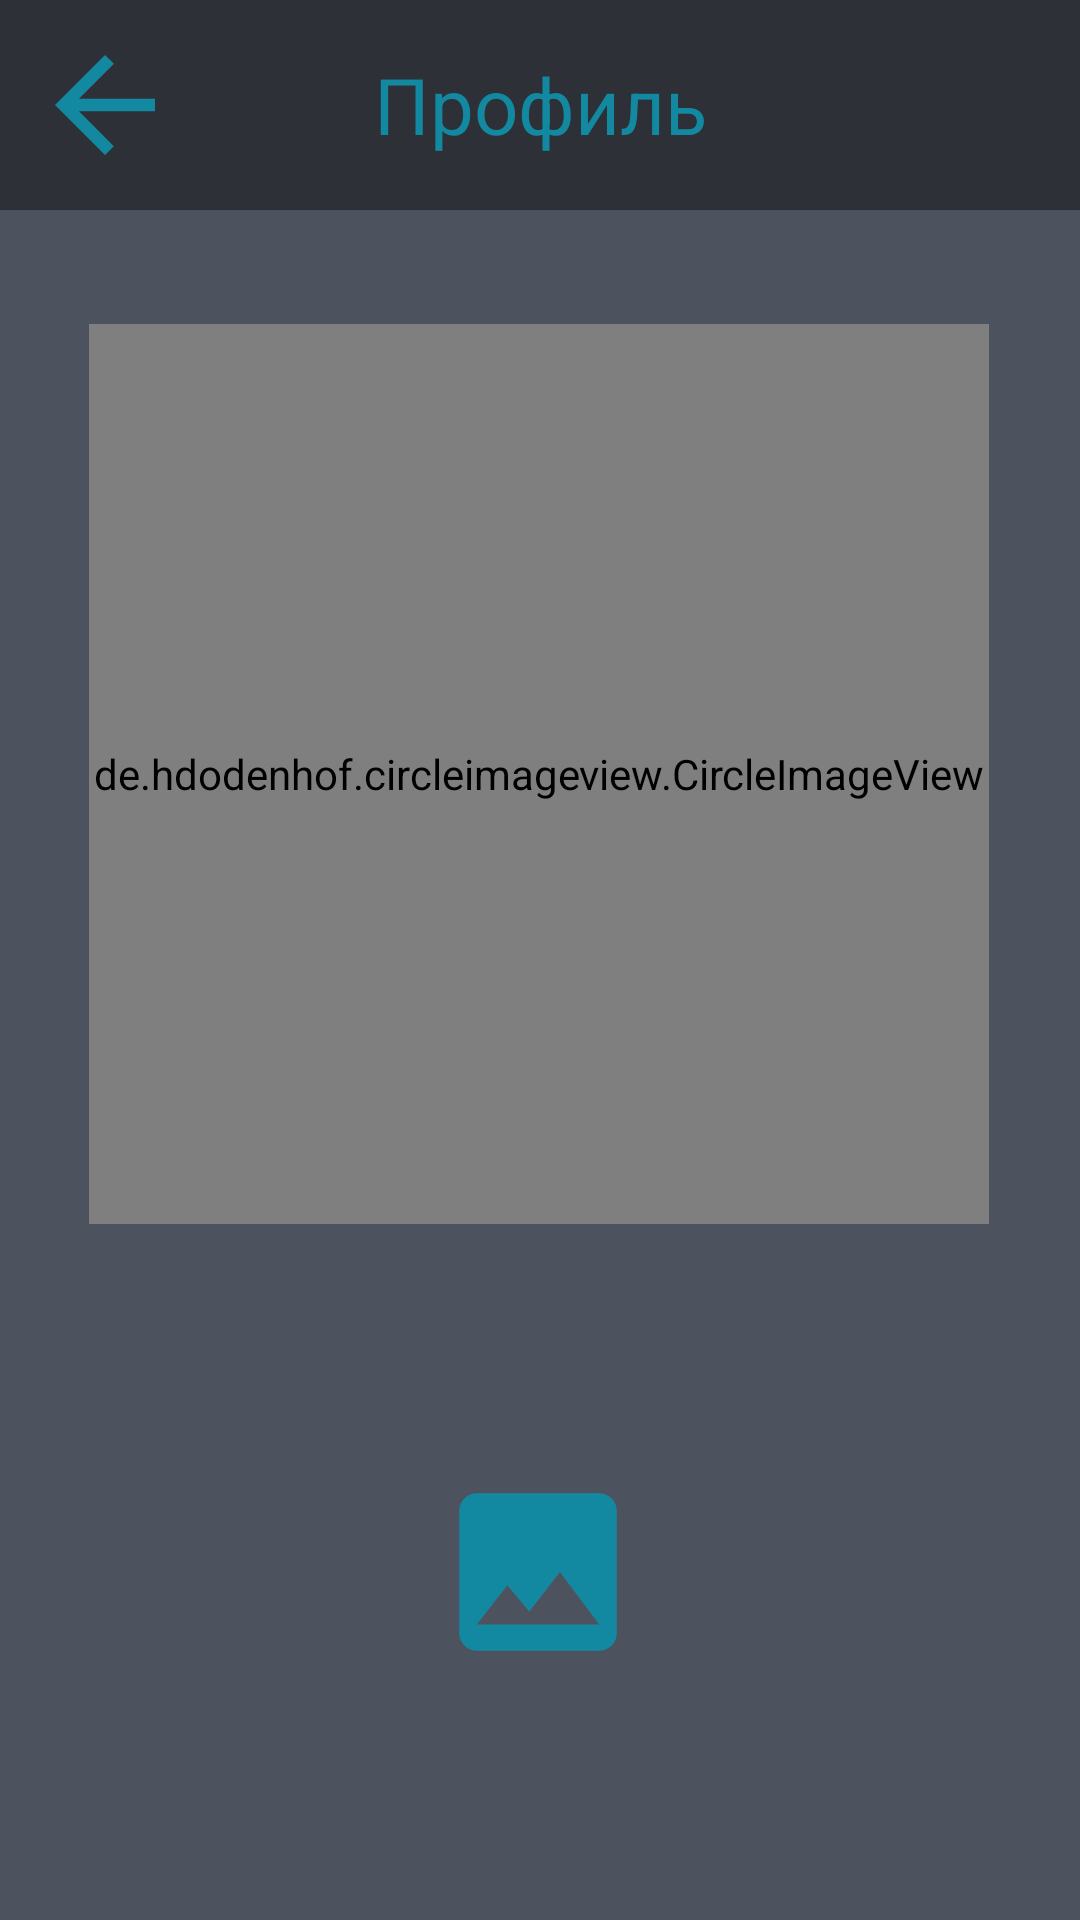

Icons on this 1080w x 1920h Android screen, each with the point to tap as [x,y]:
back: [105,105]
gallery: [538,1572]
